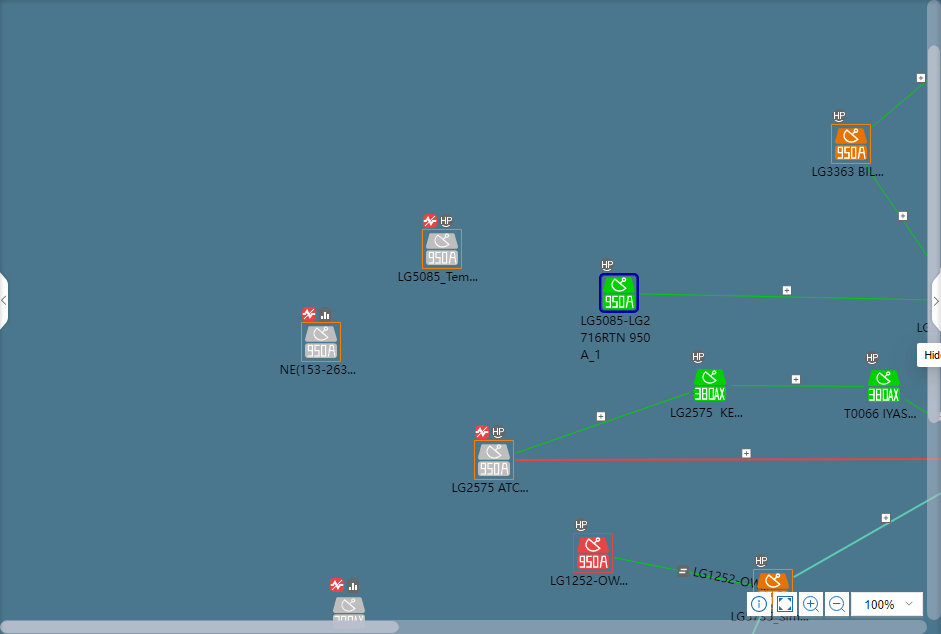Link_Blue: (794, 492, 941, 579)
Link_Green: (514, 390, 690, 456), (863, 164, 927, 259), (613, 555, 751, 588), (870, 78, 926, 130), (640, 292, 926, 302), (727, 384, 864, 390), (903, 398, 927, 414)
Link_Red: (517, 458, 941, 462)
RTN_Gray: (423, 232, 460, 267), (476, 444, 511, 478), (304, 327, 338, 360), (332, 598, 364, 622)
RTN_Green: (600, 276, 636, 311), (868, 371, 899, 403), (694, 370, 725, 401)
RTN_Orange: (834, 127, 869, 161), (756, 572, 790, 591)
RTN_Red: (575, 538, 609, 570)
